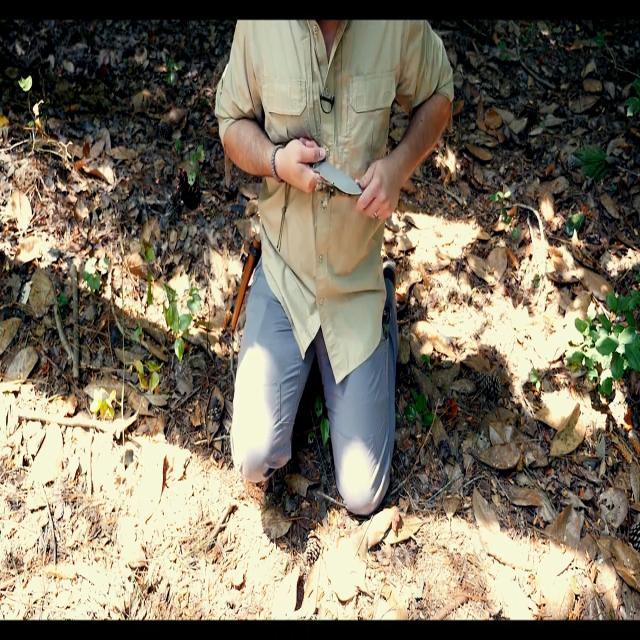knife: (316, 156, 366, 200)
